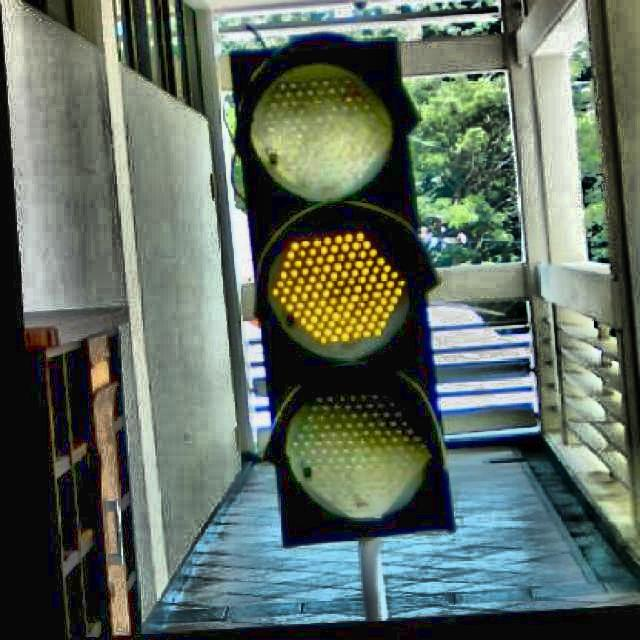yellow: (229, 50, 454, 533)
